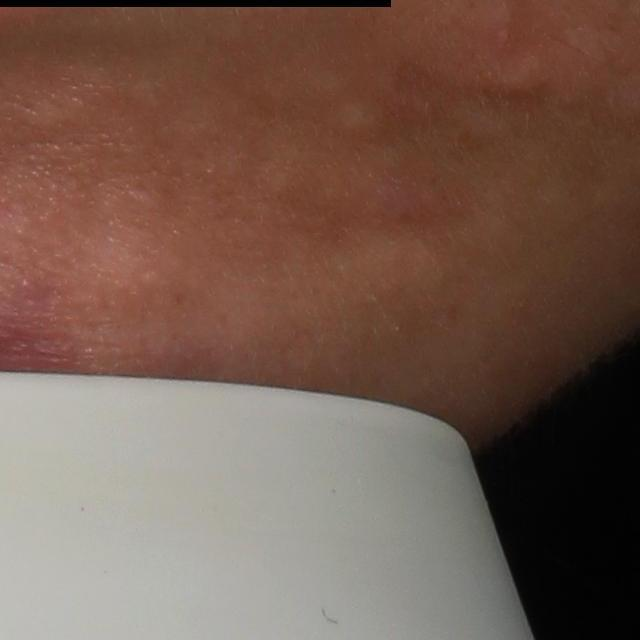hypertrophic_scar: (417, 53, 556, 100), (13, 88, 92, 138), (330, 98, 388, 141)
